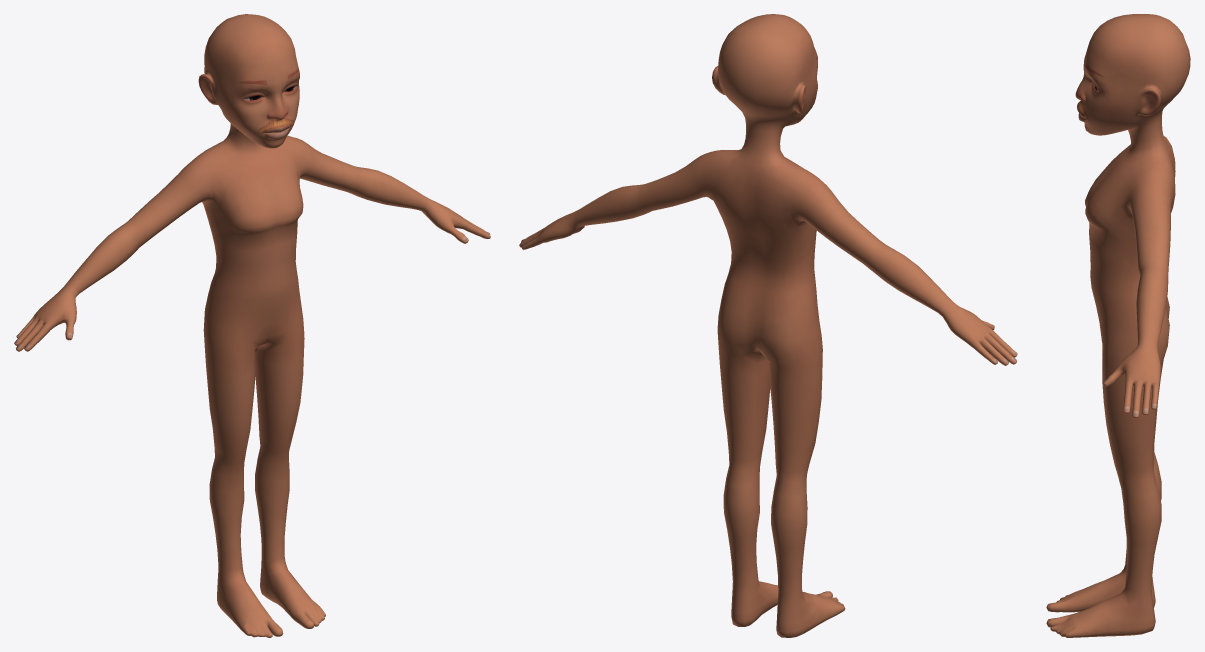
File: frame_0003.glb
The picture shows the model from 3 angles, left to right: view 1: azimuth 30°, elevation 25°; view 2: azimuth 150°, elevation 25°; view 3: azimuth 270°, elevation 25°; orthographic projection. The views are drawn at different scales.
Parts seen in each view (by area): view 1: frame_0003_head_geo; view 2: frame_0003_head_geo; view 3: frame_0003_head_geo.
Part boxes in pixels (x1,y1,x2,y2): frame_0003_head_geo: [14, 14, 490, 637]; frame_0003_head_geo: [519, 14, 1017, 637]; frame_0003_head_geo: [1046, 14, 1190, 637].
Size of the model in its own units: 1.28 by 1.5 by 0.3253.
3 materials, 3 textured.
